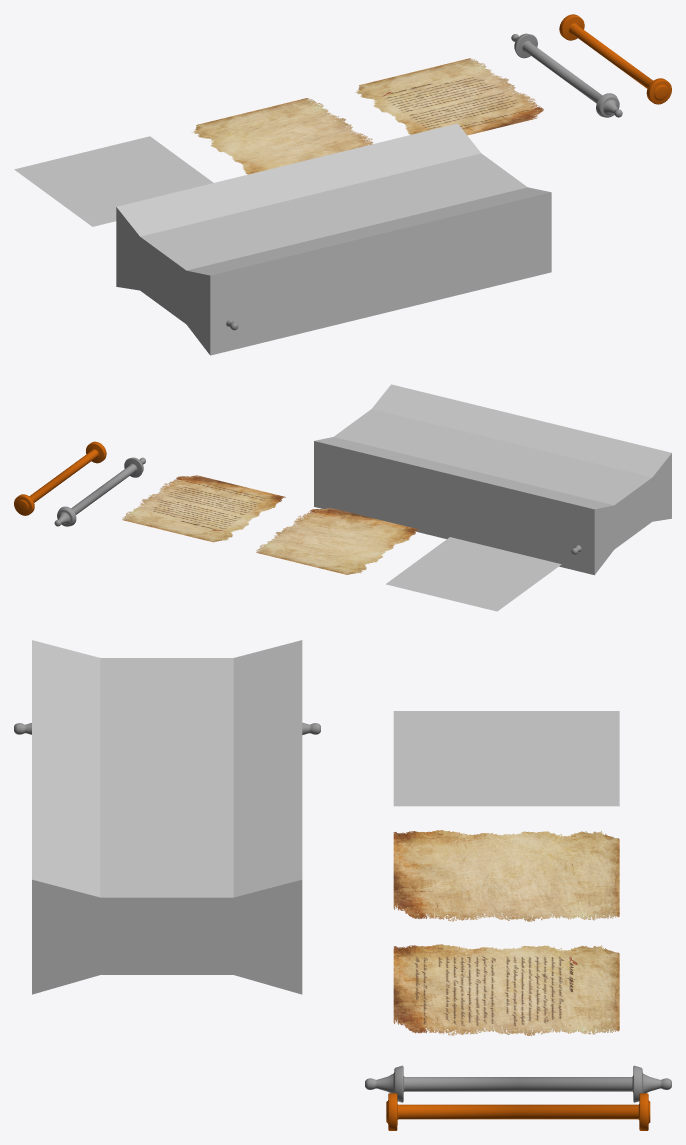
File: rouleau.obj
3 views of the same model, one above another, from view 1: azimuth 30°, elevation 25°; view 2: azimuth 150°, elevation 25°; view 3: azimuth 270°, elevation 25° (orthographic). The views are drawn at different scales.
Parts seen in each view (by area): view 1: deformation_du_parchemin_Cube, ex_texture_parchemin_1_Plan.002, ex_texture_parchemin_3_Plan.003, ex_texture_parchemin_2_Plan.001, ex_suport_or_Cylindre.003, ex_suport_argent_Cylindre.002; view 2: deformation_du_parchemin_Cube, ex_texture_parchemin_1_Plan.002, ex_texture_parchemin_3_Plan.003, ex_texture_parchemin_2_Plan.001, ex_suport_or_Cylindre.003, ex_suport_argent_Cylindre.002; view 3: deformation_du_parchemin_Cube, ex_texture_parchemin_1_Plan.002, ex_texture_parchemin_3_Plan.003, ex_texture_parchemin_2_Plan.001, ex_suport_argent_Cylindre.002, ex_suport_or_Cylindre.003.
Boxes of the visible parts, x1=… form: deformation_du_parchemin_Cube: x1=116, y1=123, x2=551, y2=355; ex_texture_parchemin_1_Plan.002: x1=14, y1=136, x2=213, y2=226; ex_texture_parchemin_3_Plan.003: x1=355, y1=58, x2=543, y2=135; ex_texture_parchemin_2_Plan.001: x1=191, y1=98, x2=373, y2=174; ex_suport_or_Cylindre.003: x1=559, y1=14, x2=671, y2=104; ex_suport_argent_Cylindre.002: x1=511, y1=33, x2=622, y2=117; deformation_du_parchemin_Cube: x1=314, y1=384, x2=671, y2=575; ex_texture_parchemin_1_Plan.002: x1=386, y1=537, x2=561, y2=611; ex_texture_parchemin_3_Plan.003: x1=122, y1=475, x2=285, y2=542; ex_texture_parchemin_2_Plan.001: x1=256, y1=507, x2=419, y2=574; ex_suport_or_Cylindre.003: x1=14, y1=441, x2=106, y2=515; ex_suport_argent_Cylindre.002: x1=54, y1=457, x2=145, y2=526; deformation_du_parchemin_Cube: x1=32, y1=640, x2=302, y2=994; ex_texture_parchemin_1_Plan.002: x1=393, y1=711, x2=619, y2=806; ex_texture_parchemin_3_Plan.003: x1=393, y1=944, x2=619, y2=1035; ex_texture_parchemin_2_Plan.001: x1=393, y1=830, x2=619, y2=921; ex_suport_argent_Cylindre.002: x1=365, y1=1065, x2=671, y2=1102; ex_suport_or_Cylindre.003: x1=386, y1=1093, x2=650, y2=1130.
Size of the model in its own units: 8.61 by 1.12 by 5.82.
Materials: 7 (2 with a texture image).
